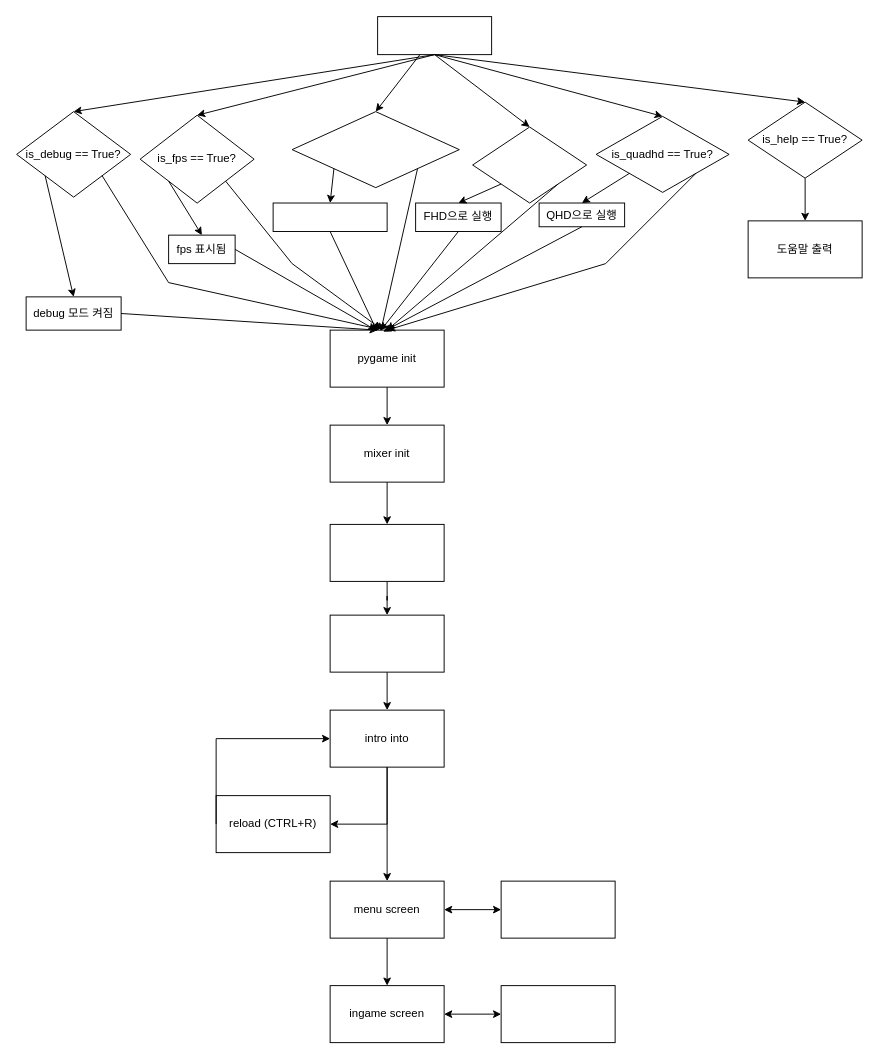
This 879x1059 diagram has some shape labels left out. Each missing label, with the centre of its shape:
is_fullhd == True?: [529,164]
is_fullscreen == True?: [375,149]
load icon: [386,643]
main.py: [434,35]
pause menu screen: [557,909]
settings screen: [557,1014]
SFX init: [386,552]
전체화면으로 실행: [329,217]
